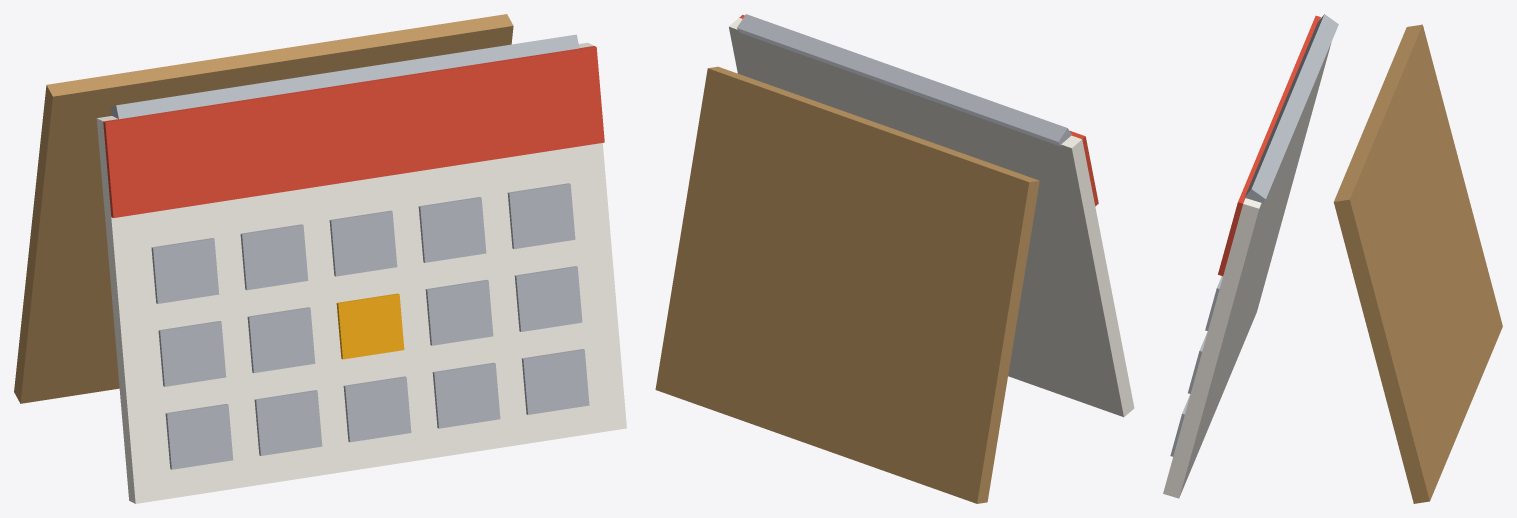
The model's file is station_transport_ausstattung_2_1.glb.
3 renders of one model, left to right at view 1: azimuth 30°, elevation 25°; view 2: azimuth 150°, elevation 25°; view 3: azimuth 270°, elevation 25°, orthographic. The views are drawn at different scales.
Parts seen in each view (by area): view 1: station_transport_ausstattung_2_1; view 2: station_transport_ausstattung_2_1; view 3: station_transport_ausstattung_2_1.
Part boxes in pixels (bbox=[...]): station_transport_ausstattung_2_1: bbox=[14, 14, 626, 503]; station_transport_ausstattung_2_1: bbox=[655, 14, 1134, 503]; station_transport_ausstattung_2_1: bbox=[1163, 14, 1502, 503].
Bounding box in the file's own units: 0.3272 × 0.2482 × 0.2425.
